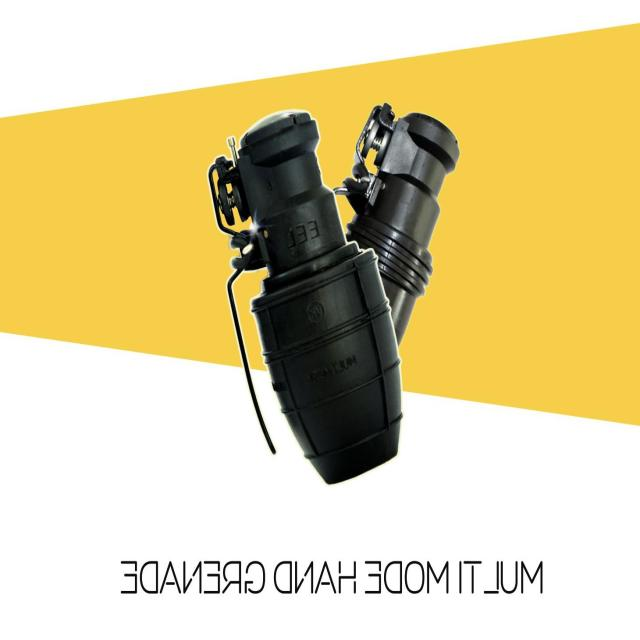grenade: (209, 110, 404, 485), (347, 105, 461, 345)
